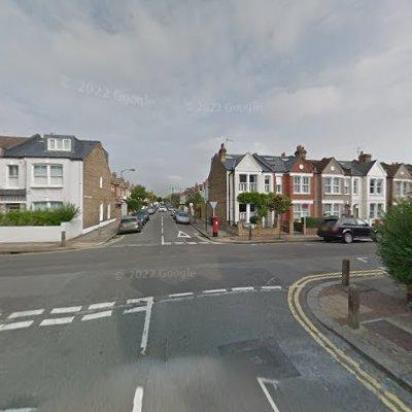stationary-car-onstreet: (316, 216, 378, 244), (118, 216, 142, 234), (174, 211, 192, 225)
